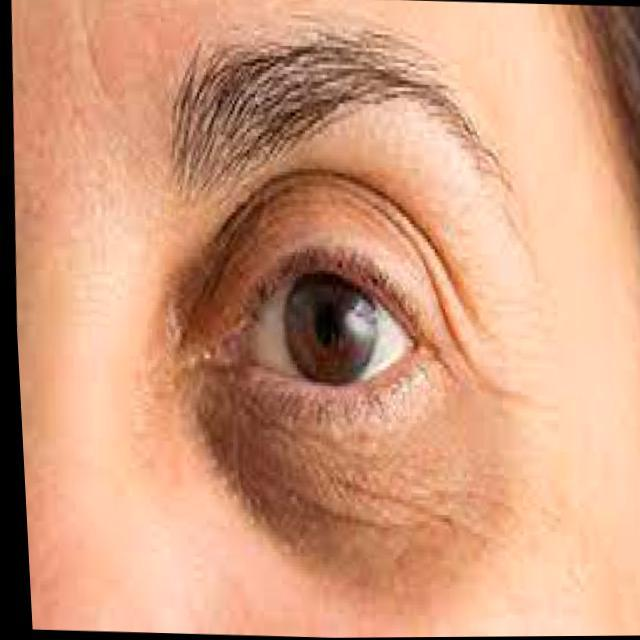Puffy Eyes - v3 Dark Circle: (179, 380, 465, 559)
